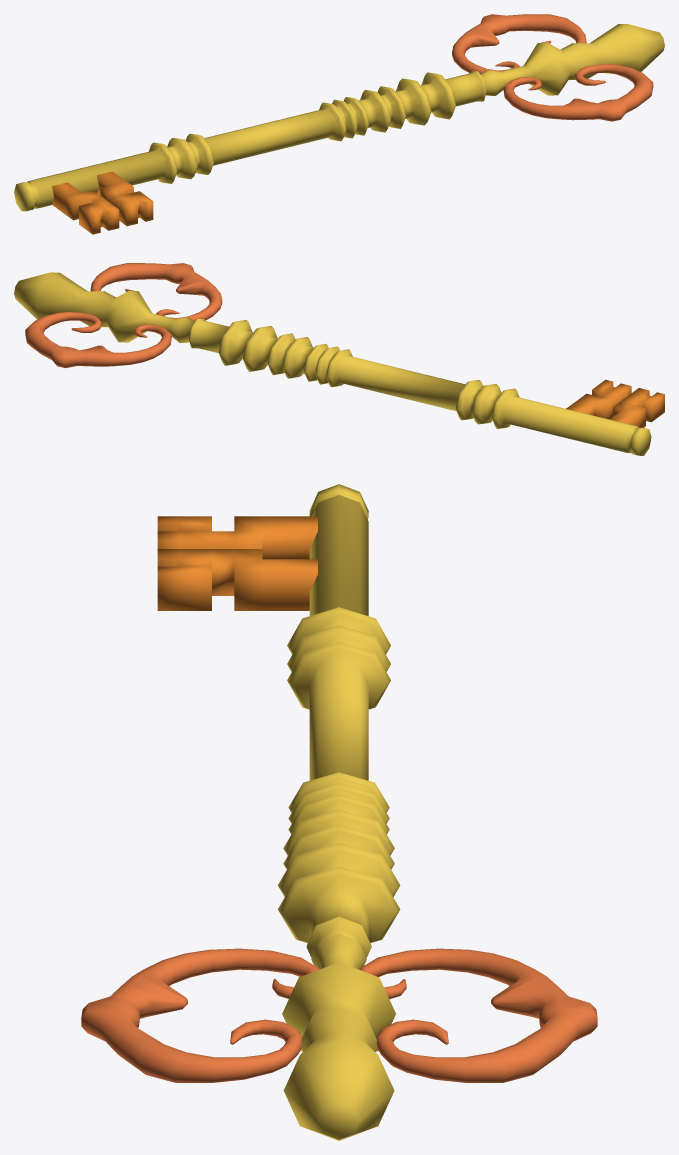
The model's file is Clé_V1_low.fbx.
The picture shows the model from 3 angles, top to bottom: view 1: azimuth 30°, elevation 25°; view 2: azimuth 150°, elevation 25°; view 3: azimuth 270°, elevation 25°; orthographic projection. The views are drawn at different scales.
Visible parts, largest first — view 1: Clé.001; view 2: Clé.001; view 3: Clé.001.
Part boxes in pixels (x1,y1,x2,y2): Clé.001: (14,14,664,234); Clé.001: (14,263,664,455); Clé.001: (81,484,597,1140).
Bounding box in the file's own units: 394 × 31.1 × 141.
